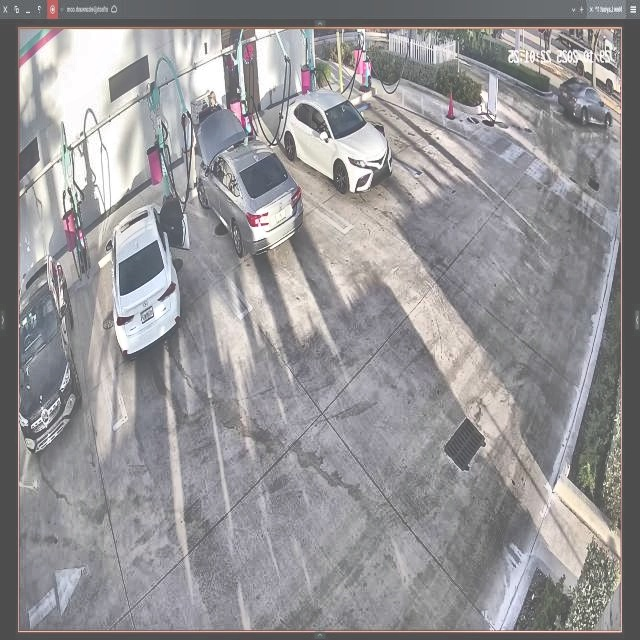Car: (195, 108, 314, 254), (108, 195, 192, 360), (279, 89, 390, 193)
